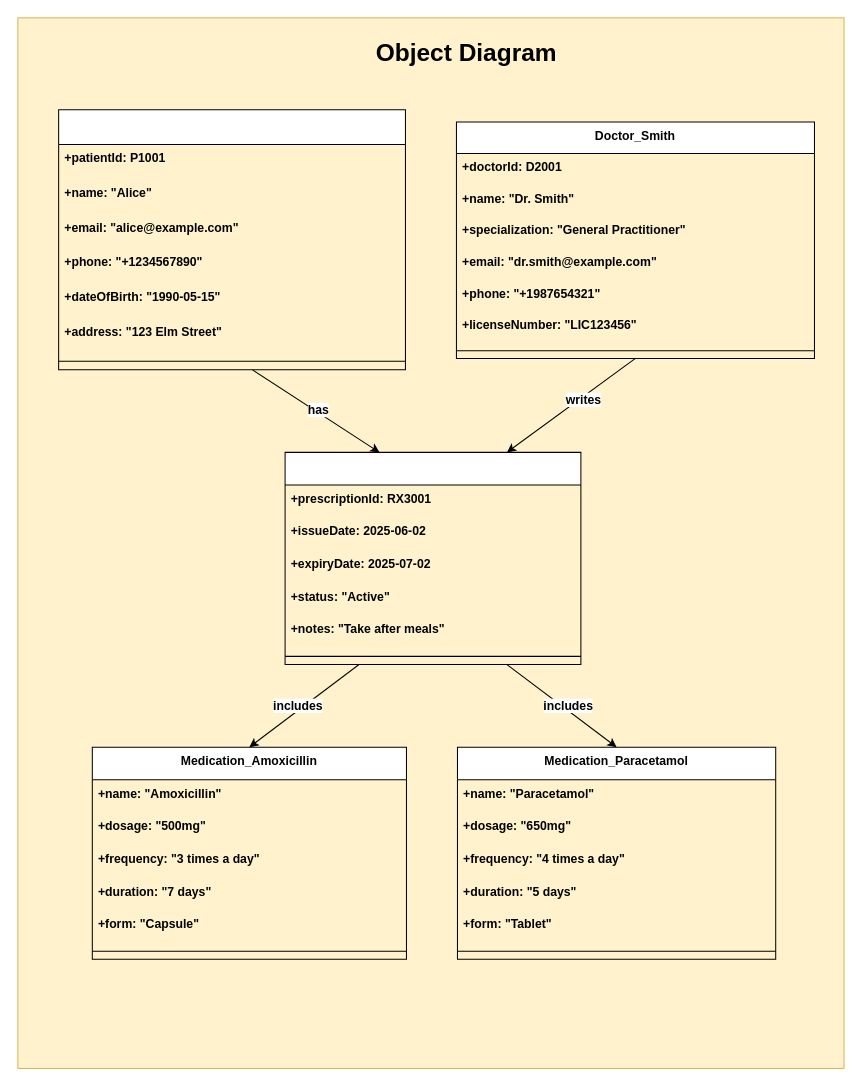
Image size: 862x1086. Some labels were removed from this diagram. The box of each missing label's shape, as (x1, y1, x2, y2) in pixels:
Patient_Alice: (58, 109, 405, 370)
Prescription_RX3001: (284, 451, 581, 665)
